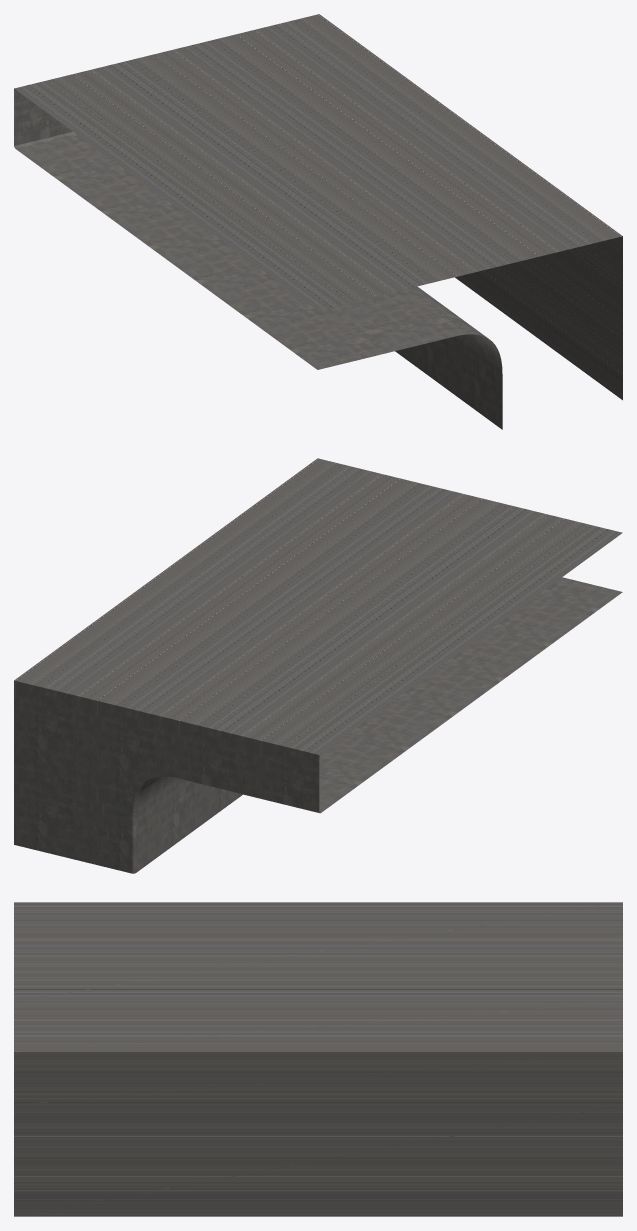
The model's file is SM_BackWallLeft.FBX.
3 views of the same model, one above another, from view 1: azimuth 30°, elevation 25°; view 2: azimuth 150°, elevation 25°; view 3: azimuth 270°, elevation 25° (orthographic).
Parts seen in each view (by area): view 1: SM_BackWallLeft; view 2: SM_BackWallLeft; view 3: SM_BackWallLeft.
Boxes of the visible parts, box(x1,y1,x2,y2) form: SM_BackWallLeft: box(14, 14, 622, 429); SM_BackWallLeft: box(14, 458, 622, 873); SM_BackWallLeft: box(14, 902, 622, 1216).
Size of what is drawn, in the model's own units: 1990 by 3427 by 1023.
